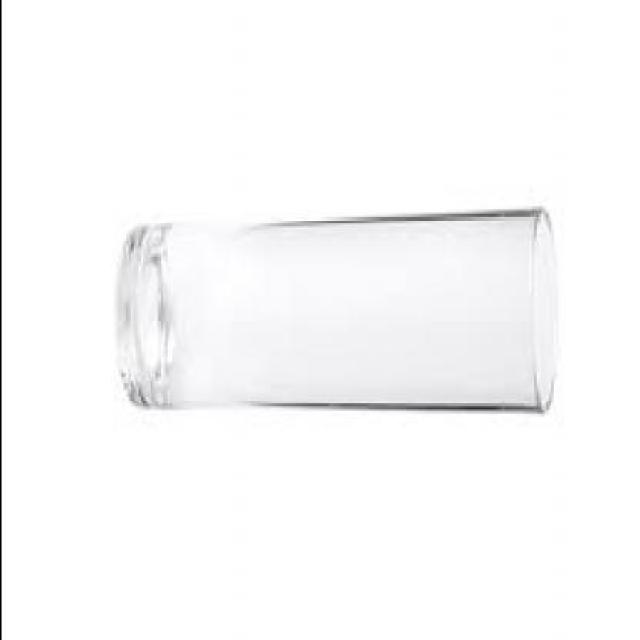GLASS: (117, 207, 560, 407)
